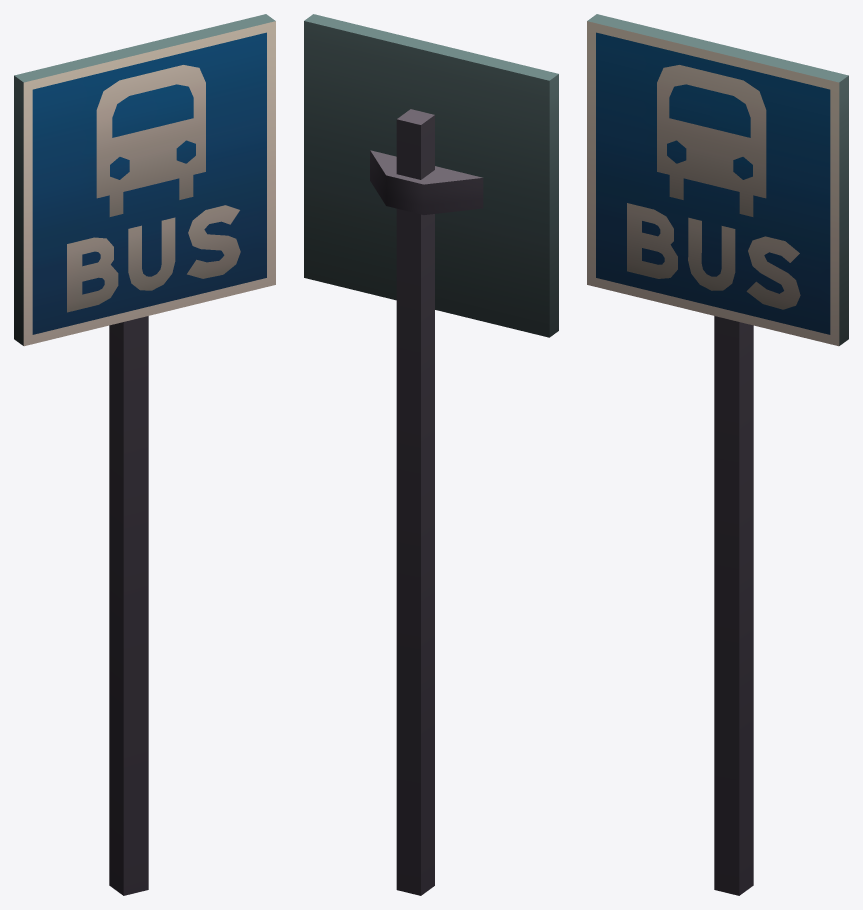
Rendered from Streetsign_2E.fbx.
3 views of the same model, side by side, from view 1: azimuth 30°, elevation 25°; view 2: azimuth 150°, elevation 25°; view 3: azimuth 330°, elevation 25° (orthographic). The views are drawn at different scales.
Visible parts, largest first — view 1: Streetsign_2E; view 2: Streetsign_2E; view 3: Streetsign_2E.
Part boxes in pixels (x1,y1,x2,y2): Streetsign_2E: (14,14,275,895); Streetsign_2E: (304,14,558,895); Streetsign_2E: (587,14,848,895).
Bounding box in the file's own units: 90 × 290 × 21.83.
